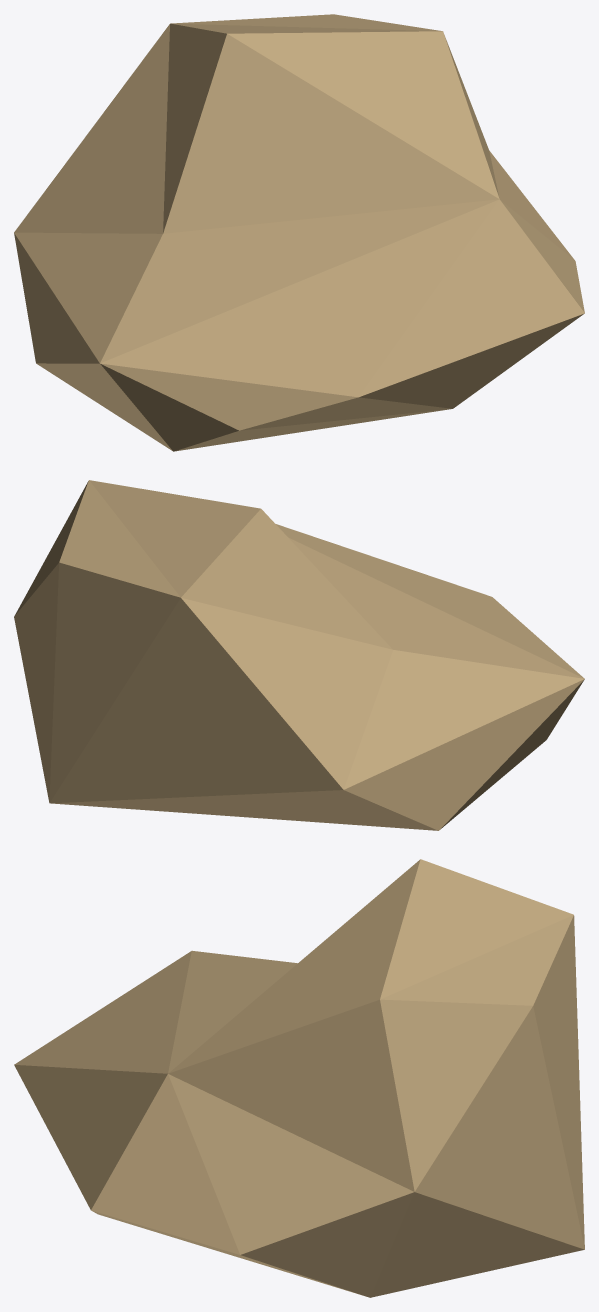
The model's file is Boulder-C07.fbx.
3 renders of one model, top to bottom at view 1: azimuth 30°, elevation 25°; view 2: azimuth 150°, elevation 25°; view 3: azimuth 270°, elevation 25°, orthographic. The views are drawn at different scales.
Visible parts, largest first — view 1: Boulder-C07; view 2: Boulder-C07; view 3: Boulder-C07.
Part boxes in pixels (left/top/right/bottom): Boulder-C07: left=14, top=14, right=584, bottom=451; Boulder-C07: left=14, top=480, right=584, bottom=830; Boulder-C07: left=14, top=859, right=584, bottom=1297.
Size of the model in its own units: 160 by 87.96 by 145.
